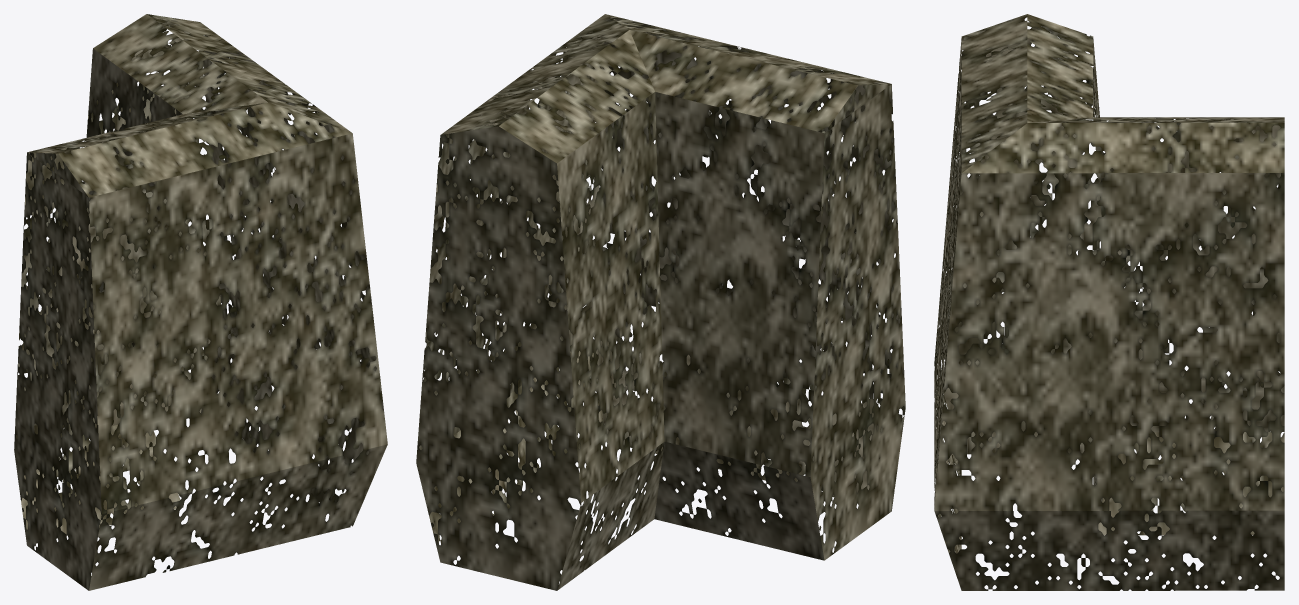
Rendered from bush_long_square_corner_dead.fbx.
The picture shows the model from 3 angles, left to right: view 1: azimuth 30°, elevation 25°; view 2: azimuth 150°, elevation 25°; view 3: azimuth 270°, elevation 25°; orthographic projection. The views are drawn at different scales.
Visible parts, largest first — view 1: bush_long_square_corner_dead; view 2: bush_long_square_corner_dead; view 3: bush_long_square_corner_dead.
Boxes of the visible parts, x1=… form: bush_long_square_corner_dead: x1=14, y1=14, x2=387, y2=590; bush_long_square_corner_dead: x1=416, y1=14, x2=905, y2=590; bush_long_square_corner_dead: x1=934, y1=14, x2=1284, y2=590.
Bounding box in the file's own units: 136 × 188 × 135.
Materials: 1 (1 with a texture image).
